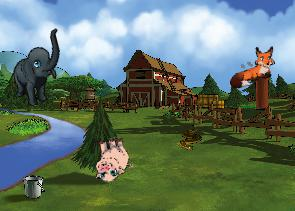elephant: (3, 28, 74, 109)
fox: (222, 42, 282, 91)
pig: (89, 135, 133, 182)
